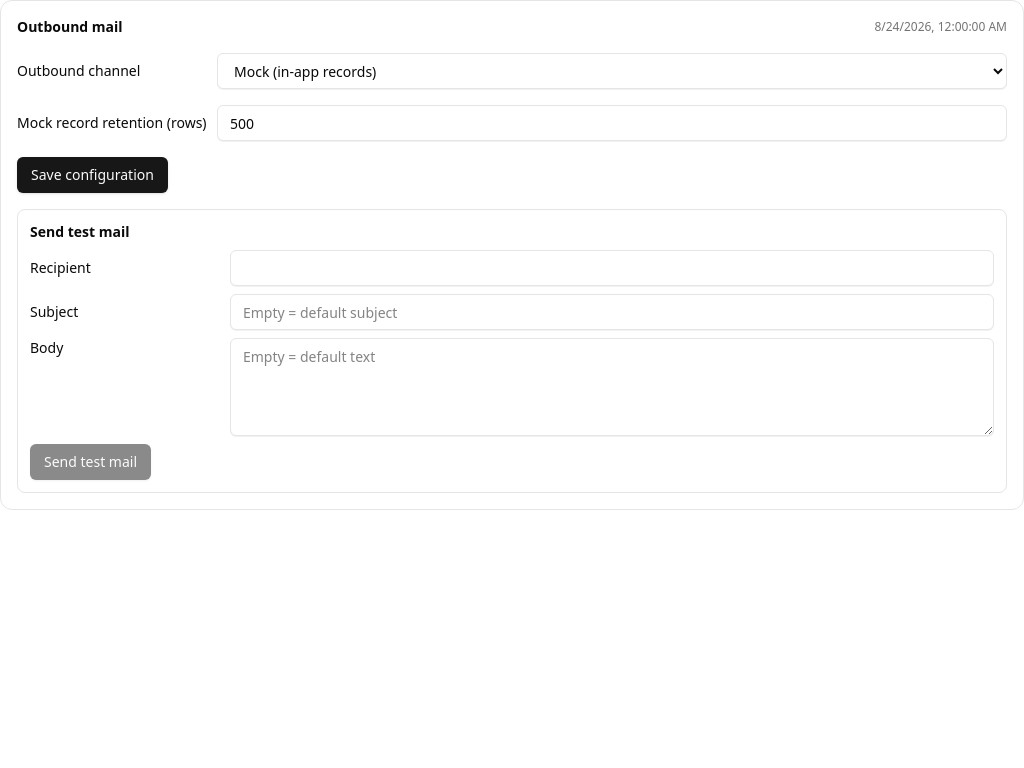
it: MailAdminTab (R7 UX refinement) › shows only the selected channel's settings and hides resend/smtp blocks
The width and height of the screenshot is (1024, 768).
Check: the number field with id "mail-mock-retention" is shown, box 217,105 -> 1007,141
Select "Resend (production)" in the dropdown with id "mail-channel" at (612, 71), box 217,53 -> 1007,89
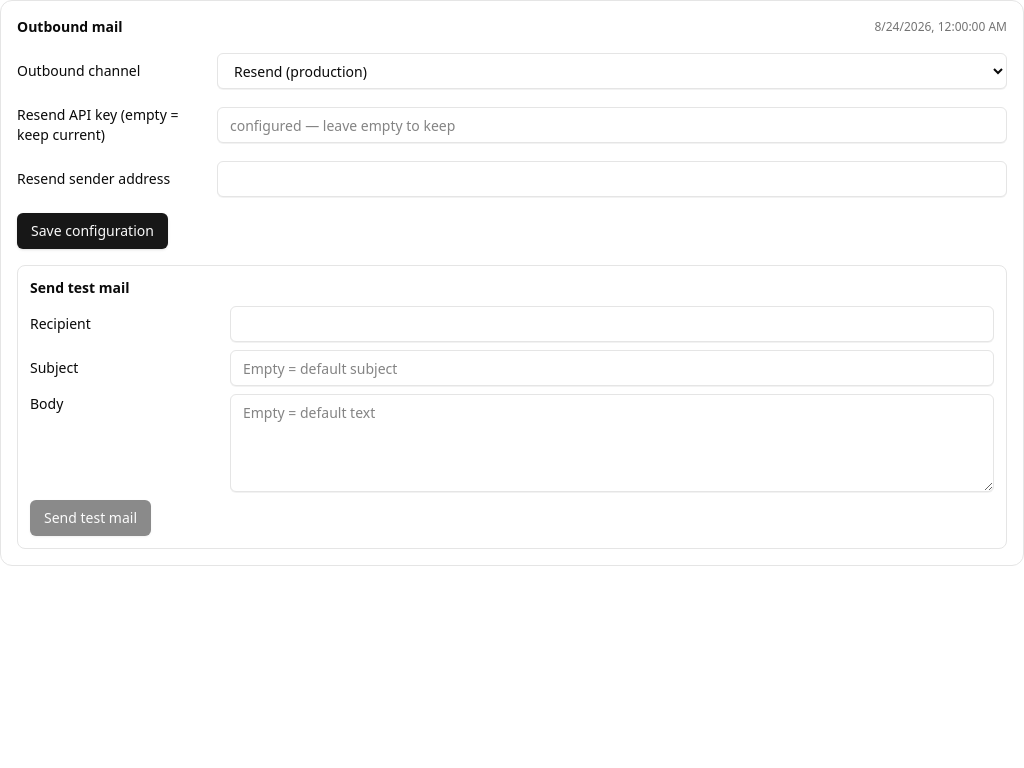
Check: the field with id "mail-resend-from" is shown, box 217,161 -> 1007,197
Check: the label with id "mail-mock-retention" is gone
Select "SMTP" in the dropdown with id "mail-channel" at (612, 71), box 217,53 -> 1007,89
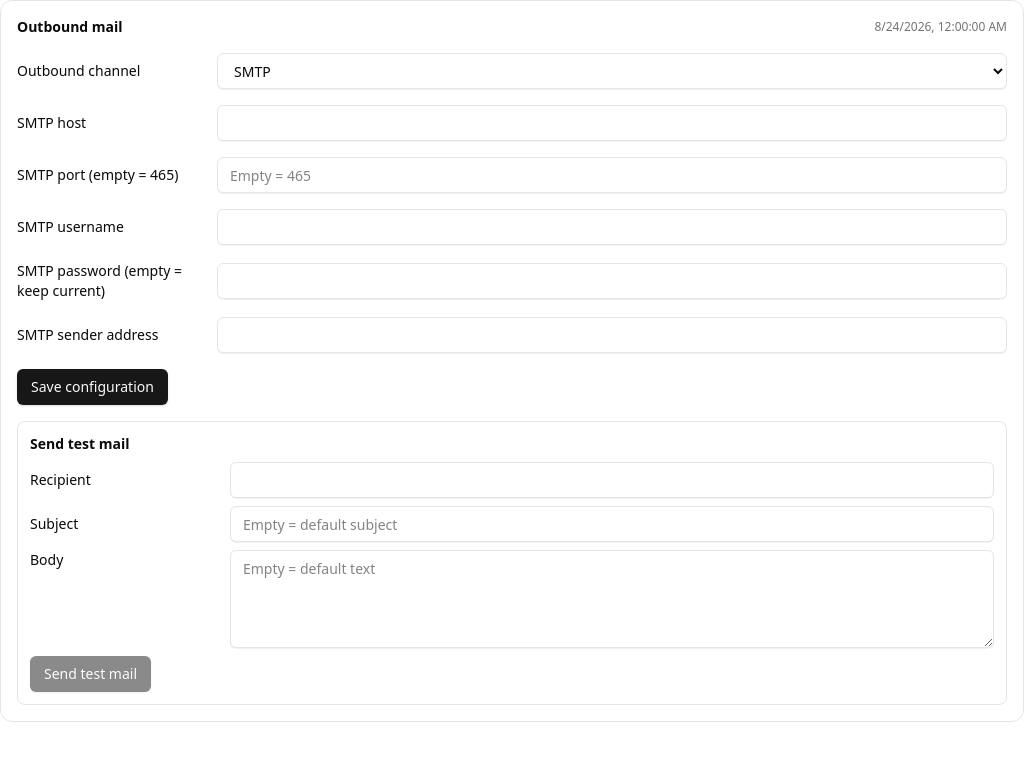
Check: the field with id "mail-smtp-host" is shown, box 217,105 -> 1007,141
Check: the password field with id "mail-smtp-password" is shown, box 217,263 -> 1007,299
